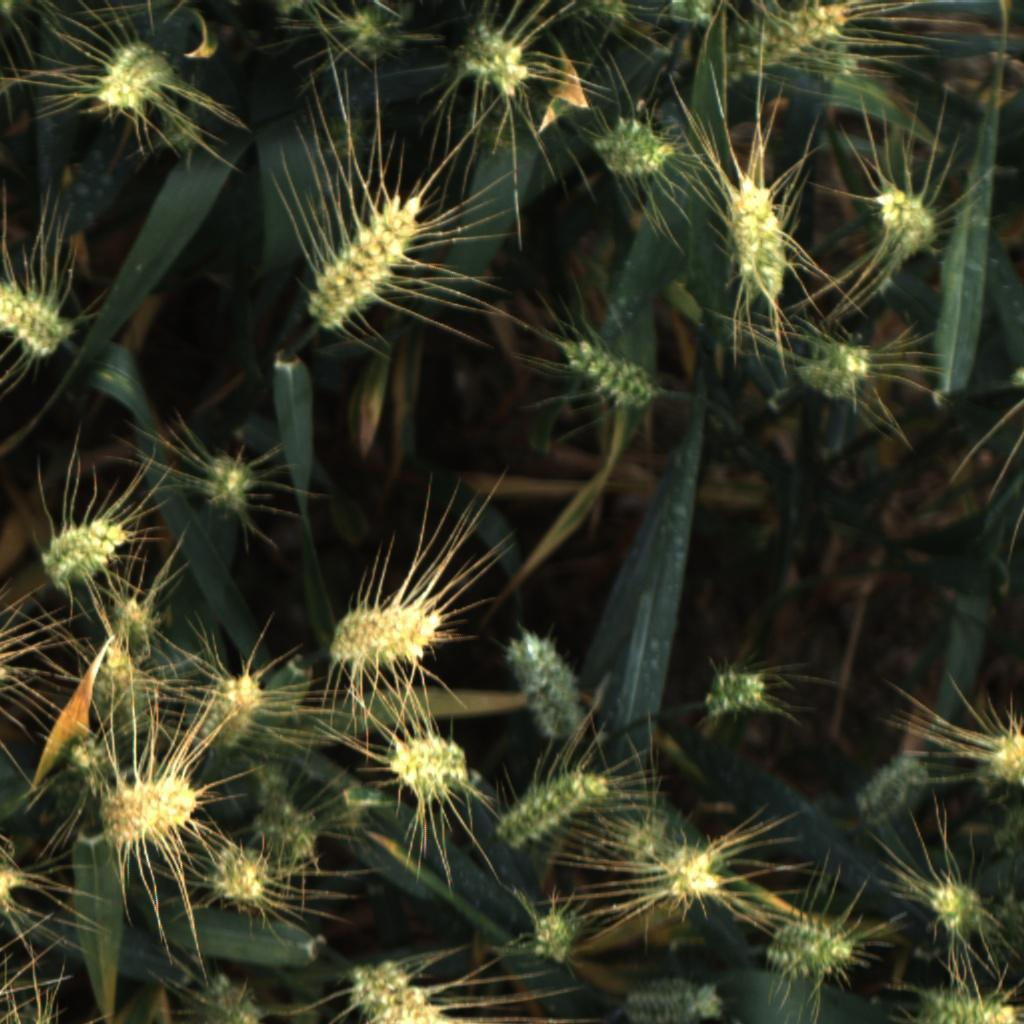0-0: (307, 190, 423, 334), (720, 1, 857, 83), (495, 768, 618, 848), (502, 632, 593, 739), (326, 599, 445, 671), (726, 173, 791, 304), (95, 773, 204, 846), (553, 335, 653, 414), (89, 638, 163, 736), (349, 960, 460, 1024), (382, 723, 470, 803), (193, 665, 270, 756), (640, 833, 730, 909), (87, 37, 178, 112), (42, 510, 128, 587), (871, 179, 948, 263), (767, 914, 855, 986), (792, 338, 881, 409), (457, 23, 535, 101), (852, 752, 929, 831), (590, 115, 676, 184), (0, 280, 71, 362), (768, 39, 870, 94), (622, 972, 722, 1024), (198, 846, 274, 913), (251, 794, 327, 859), (921, 875, 993, 939), (191, 964, 265, 1024), (705, 661, 773, 726), (522, 899, 583, 967), (202, 447, 262, 515), (336, 6, 407, 62), (105, 589, 172, 645), (621, 806, 674, 869), (979, 726, 1024, 797), (58, 730, 115, 784), (244, 753, 299, 804), (987, 890, 1023, 963), (472, 104, 522, 153), (320, 109, 367, 159), (156, 113, 204, 154), (993, 806, 1022, 857), (577, 0, 629, 28), (667, 0, 717, 28), (0, 859, 24, 912), (271, 0, 306, 18)
